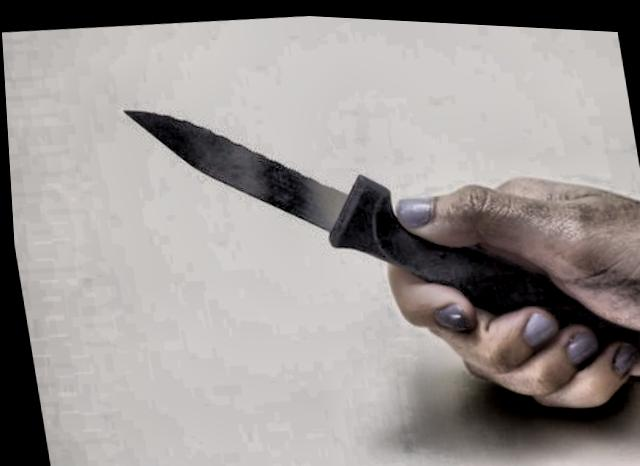knife: (112, 50, 568, 390)
